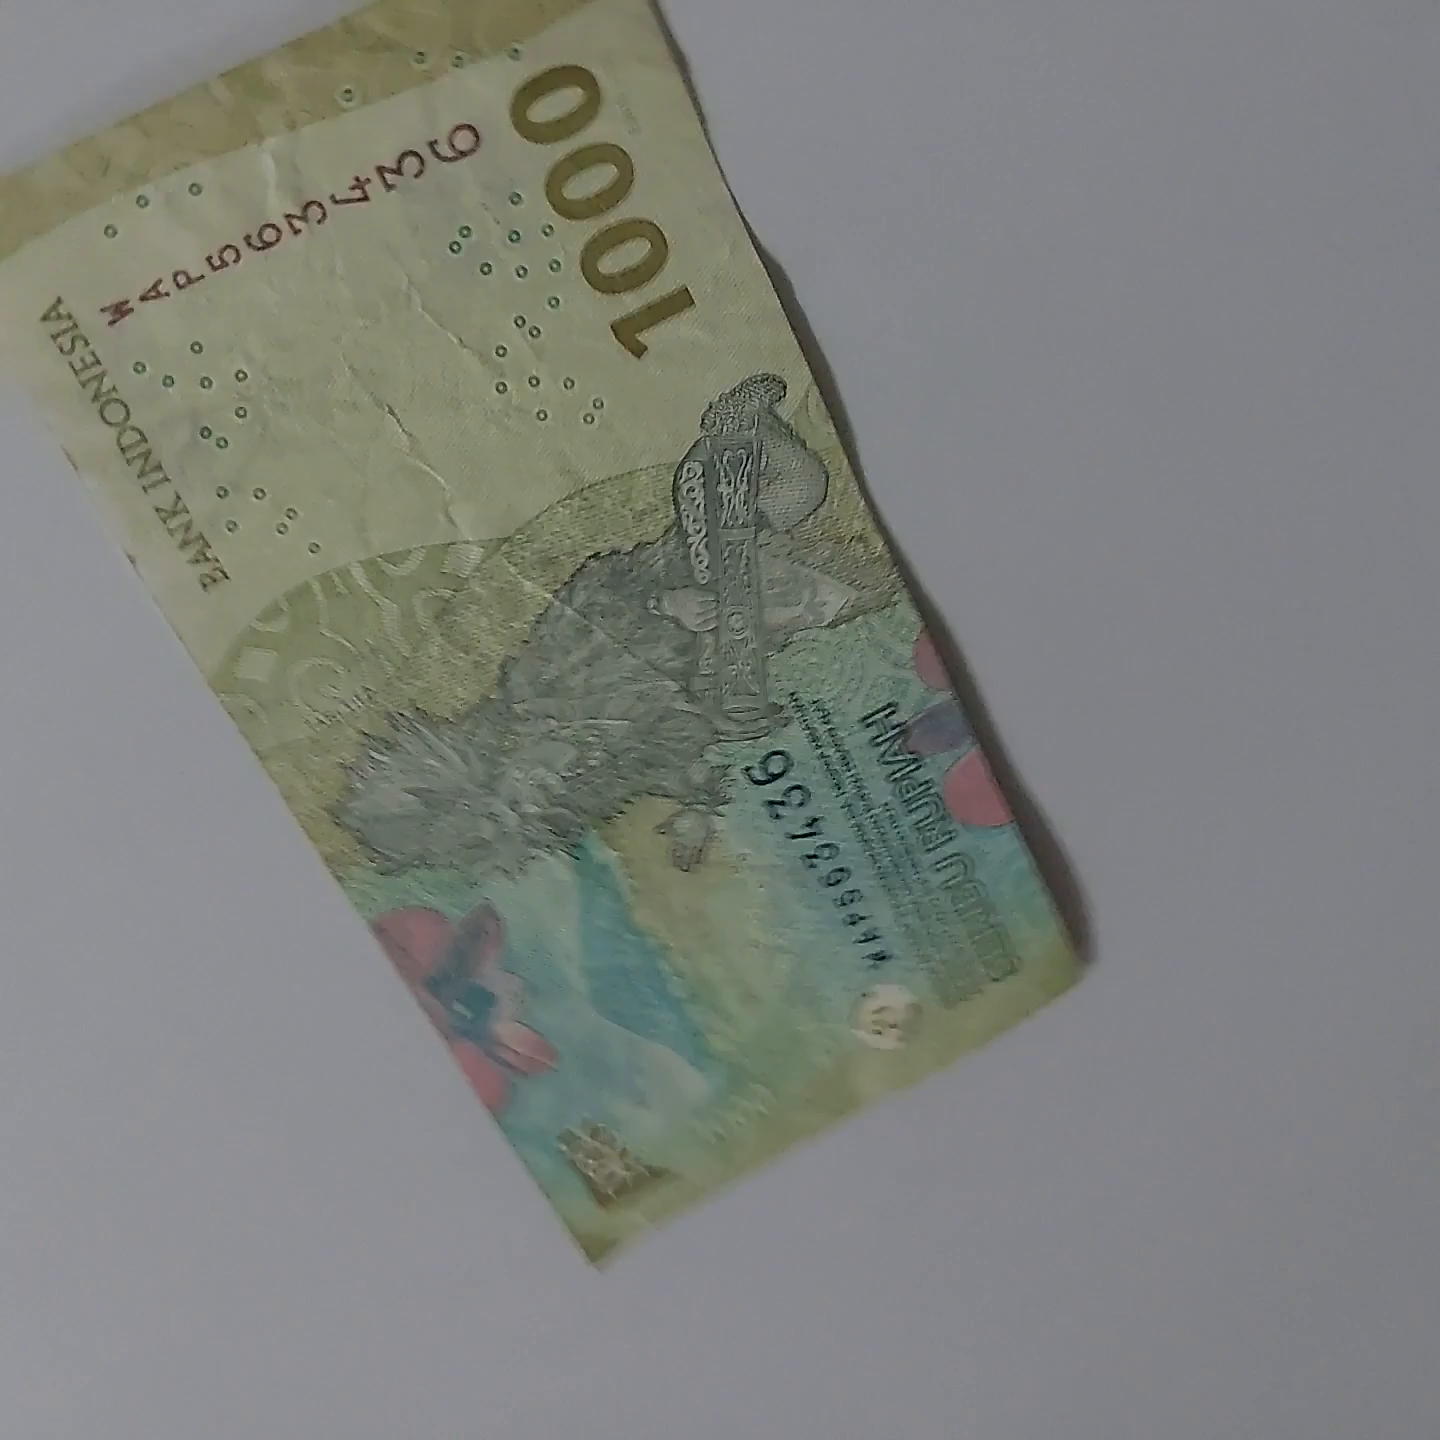1k: (0, 0, 1089, 1273)
